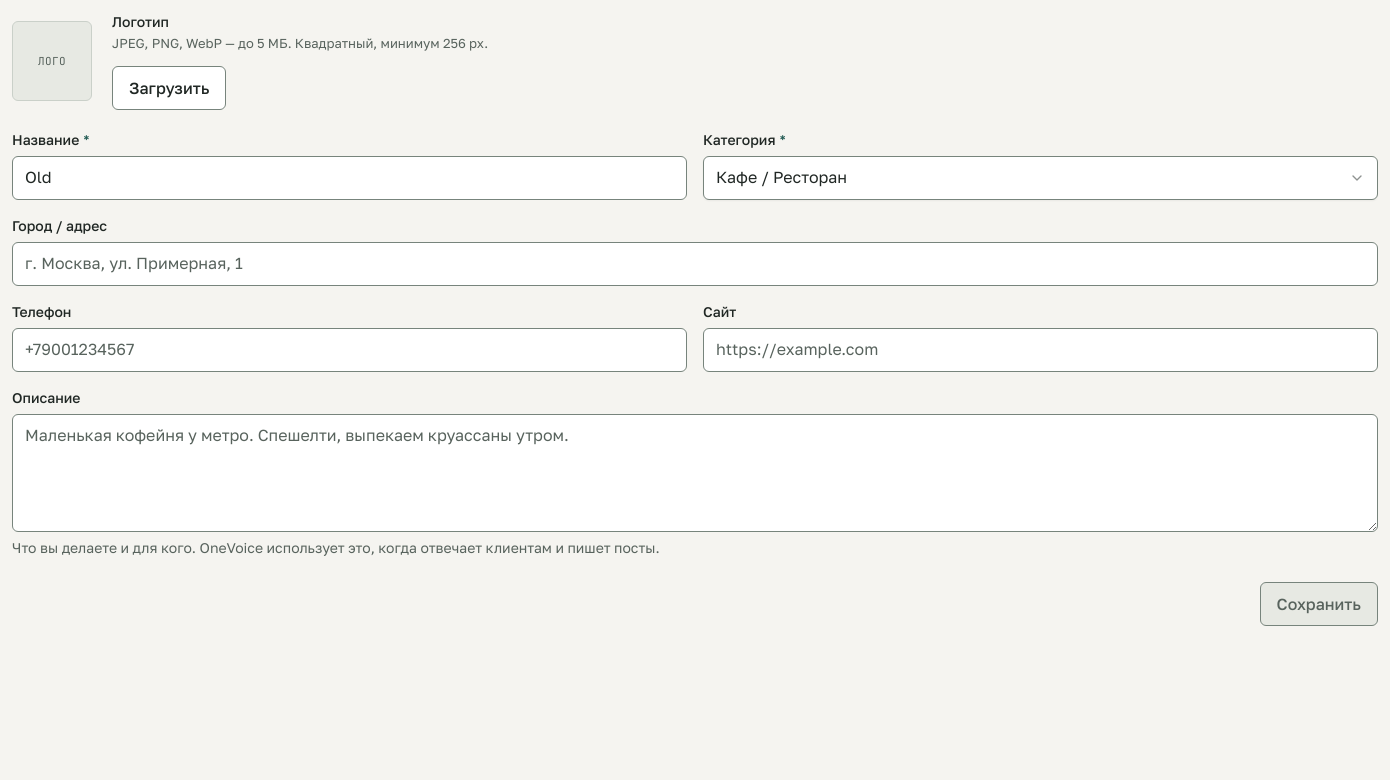
associates validation with the field and preserves edits on a failed save
Clear the field labelled "Название*": (350, 178) [12,156,687,200]
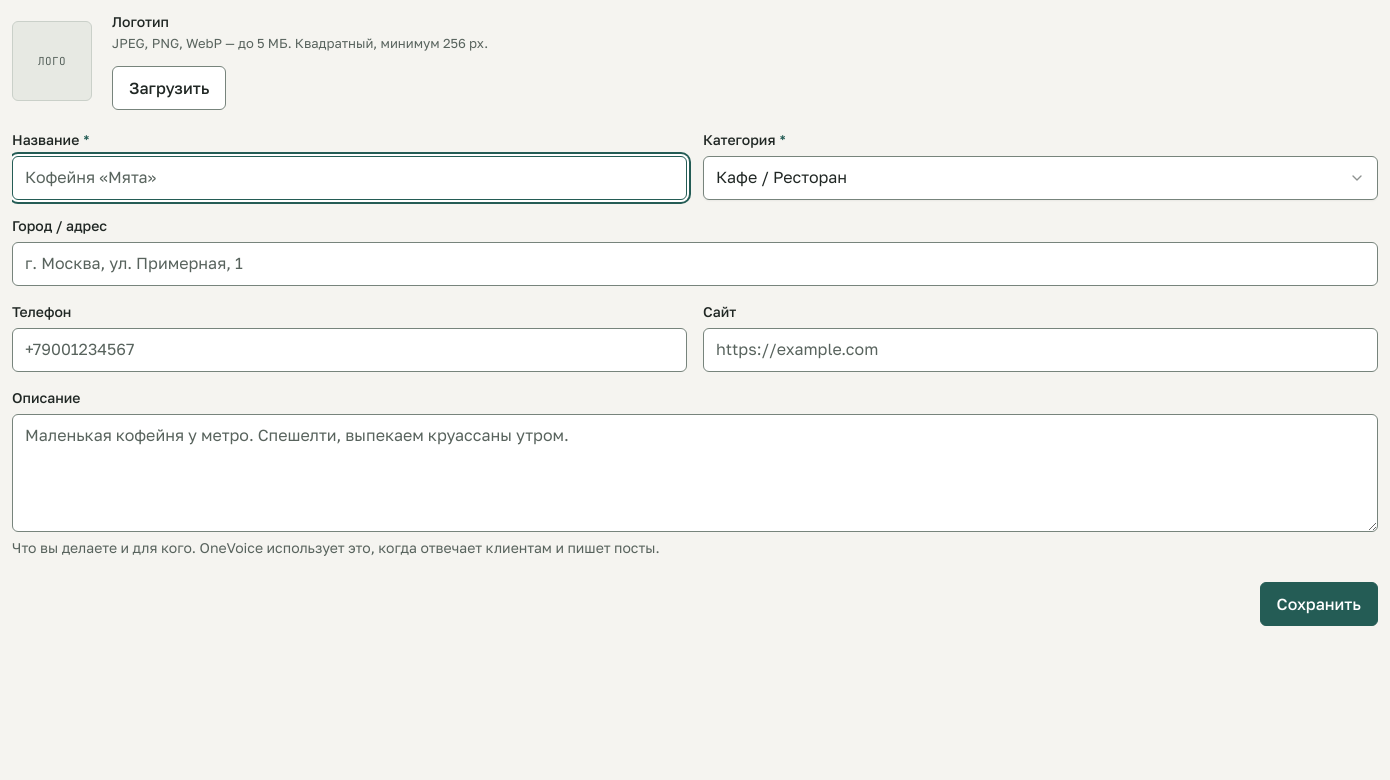
Click the button "Сохранить": click(1319, 604) [1260,582,1378,626]
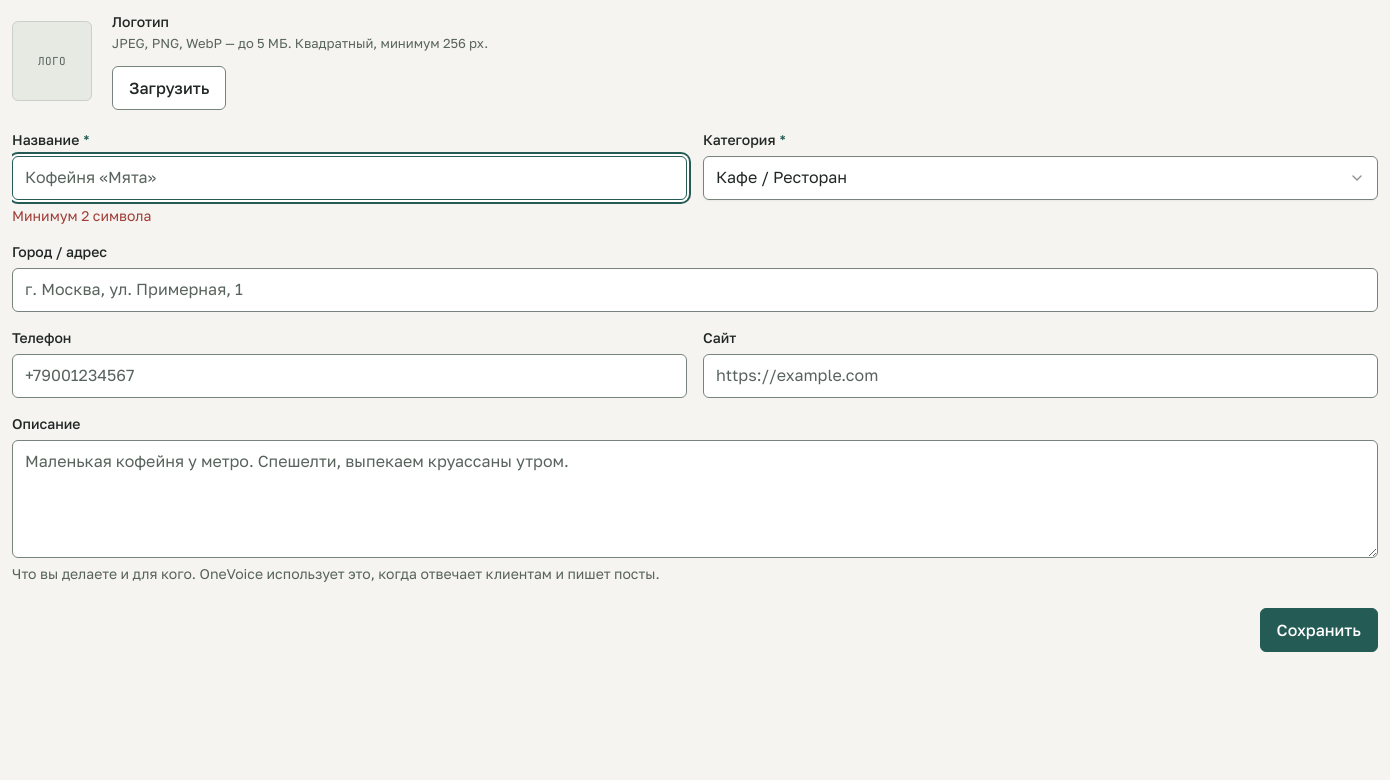
In the field labelled "Название*": (350, 178) [12,156,687,200], type "Draft"
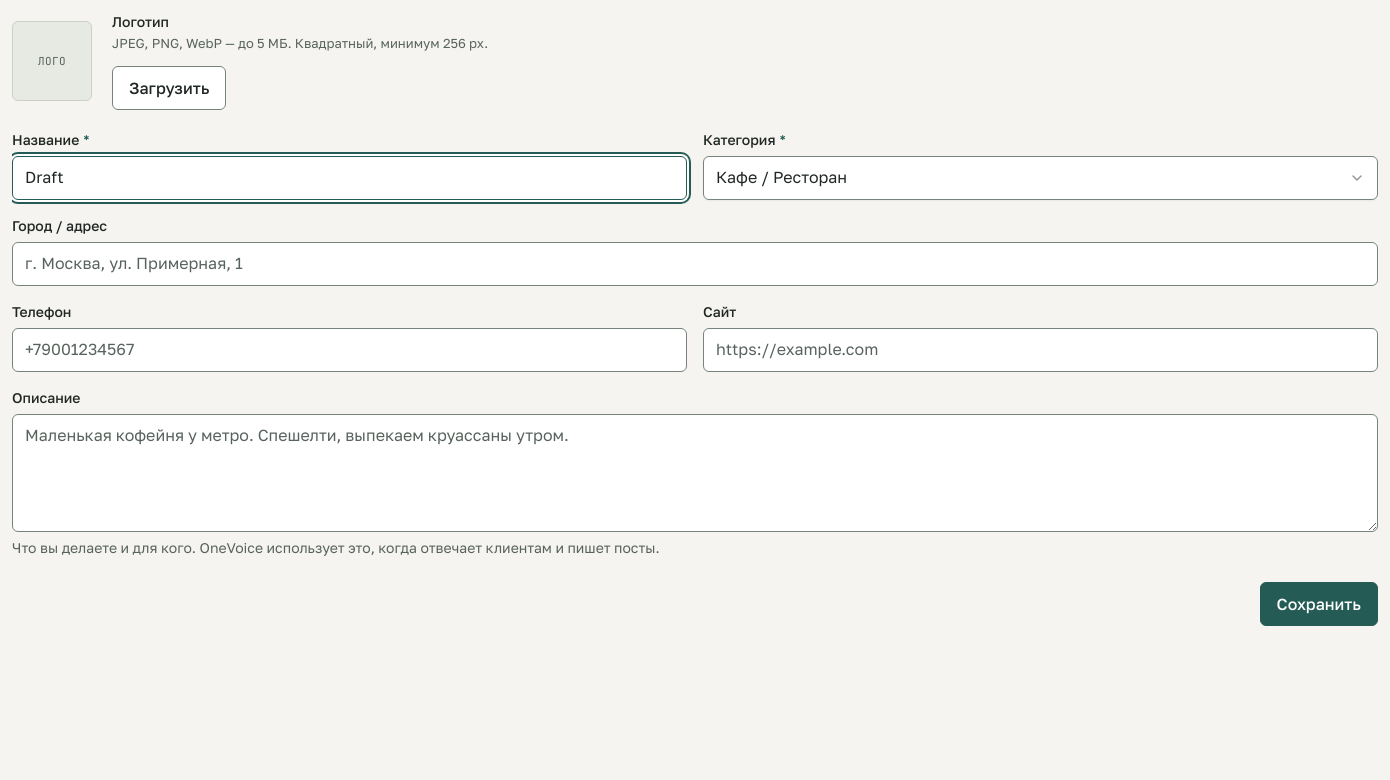
Click the button "Сохранить": click(1319, 604) [1260,582,1378,626]
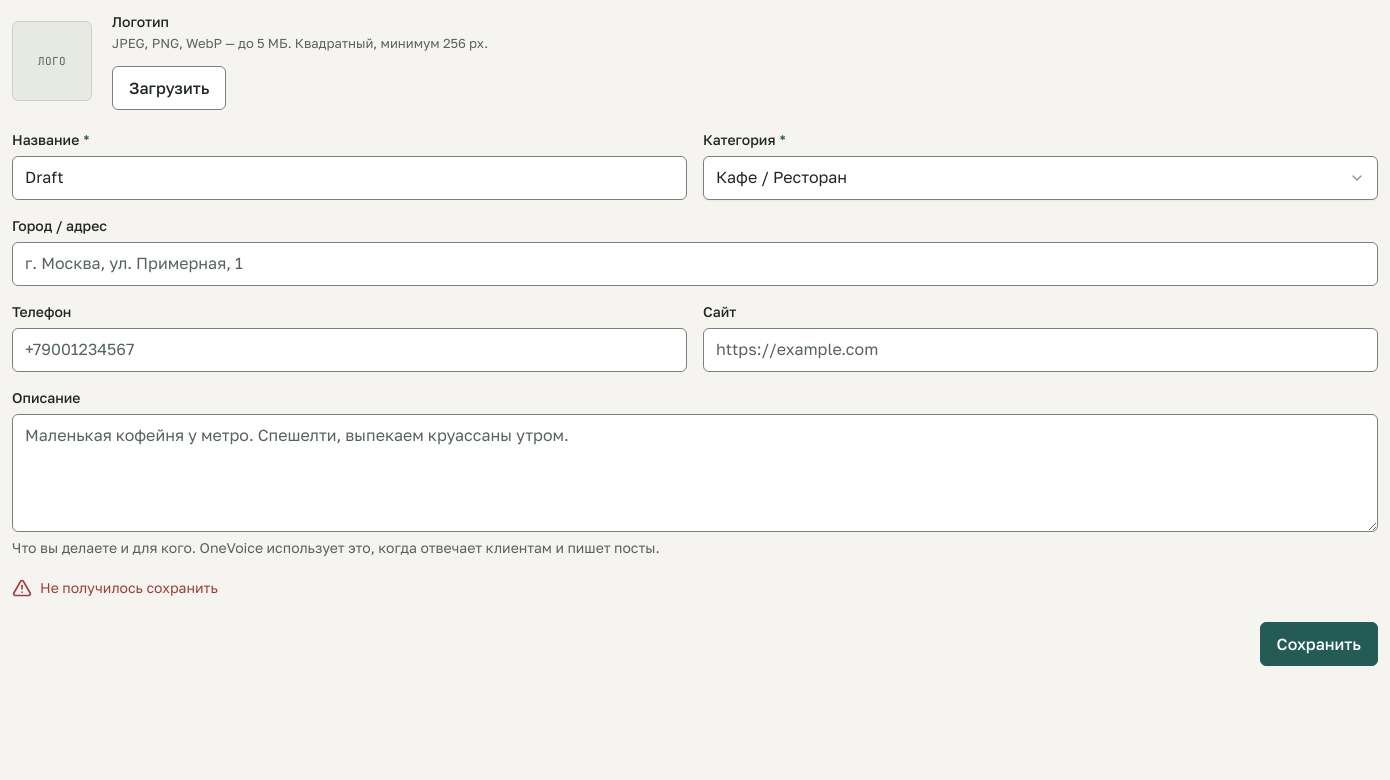
Now the message reads "Не получилось сохранить", box [40,578,218,596]
